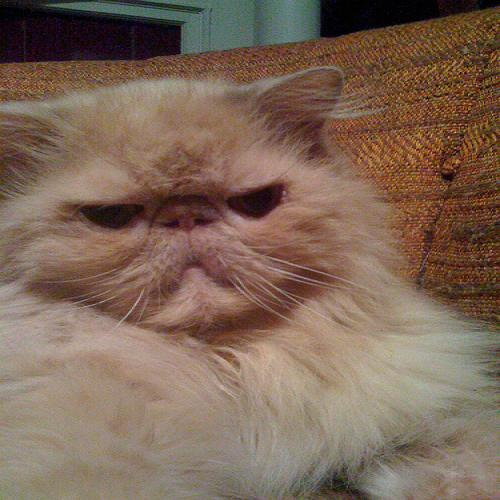bengal: (1, 65, 392, 351)
